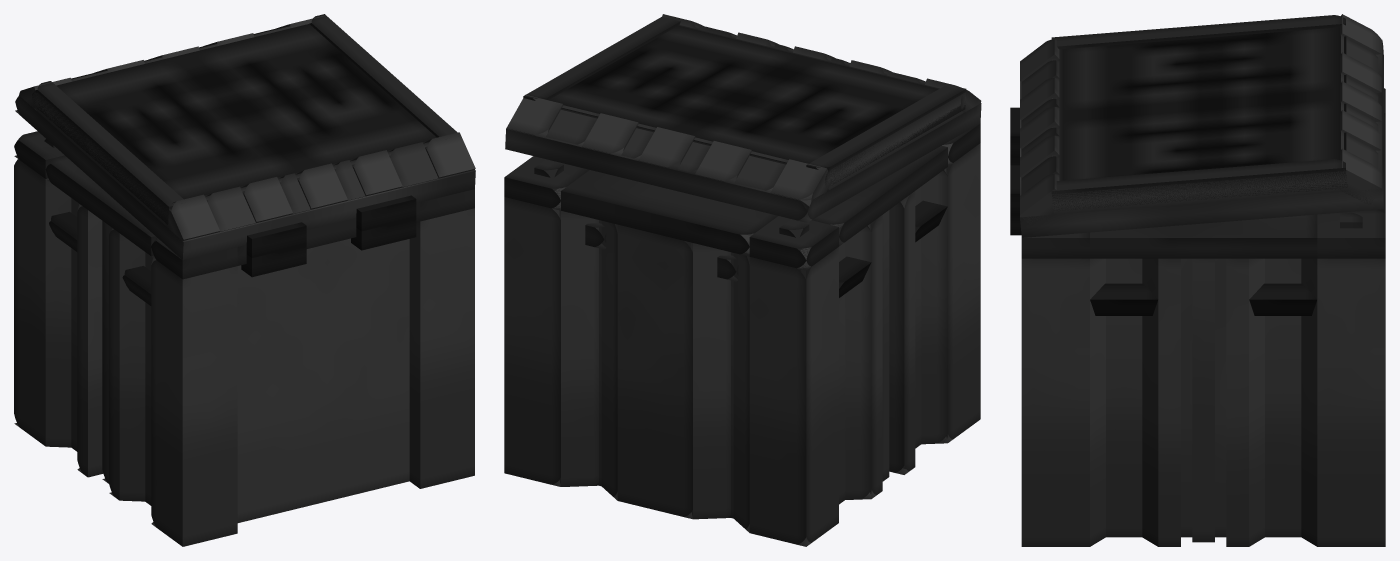
Rendered from police_crate.obj.
The picture shows the model from 3 angles, left to right: view 1: azimuth 30°, elevation 25°; view 2: azimuth 150°, elevation 25°; view 3: azimuth 270°, elevation 25°; orthographic projection. The views are drawn at different scales.
Visible parts, largest first — view 1: oC, nO, nx, oB, nA, nN, nV, nJ, nI, nQ, ov, nS (+23 smaller); view 2: nO, nA, nD, oA, nN, nF, oy, nx, ot, nz, nK, nH (+25 smaller); view 3: nO, oA, oB, oG, oH, nN, oT, nS, oR, oI, oK, oJ (+25 smaller).
Part boxes in pixels (x1,y1,x2,y2): oC: (237,238,409,522); nO: (32,24,436,227); nx: (151,259,237,546); oB: (409,208,474,488); nA: (14,159,45,446); nN: (15,96,475,260); nV: (77,205,103,477); nJ: (45,178,71,447); nI: (119,233,145,501); nQ: (32,81,183,224); ov: (45,155,156,256); nS: (309,14,457,137); nO: (541,25,966,191); nA: (749,247,838,546); nD: (617,224,692,519); oA: (504,187,565,486); nN: (505,103,981,222); nF: (691,242,730,519); oy: (559,208,598,486); nx: (941,143,980,443); ot: (561,170,777,256); nz: (889,191,915,474); nK: (845,223,871,499); nH: (921,168,947,444); nO: (1052,27,1347,214); oA: (1317,258,1385,546); oB: (1021,258,1089,546); oG: (1106,258,1142,537); oH: (1265,258,1301,537); nN: (1020,40,1383,237); oT: (1090,214,1317,258); nS: (1051,159,1347,210); oR: (1181,258,1226,537); oI: (1158,258,1180,546); oK: (1226,258,1248,546); oJ: (1192,258,1214,542).
Size of the model in its own units: 1 by 1.16 by 1.03.
Materials: 1 (1 with a texture image).
